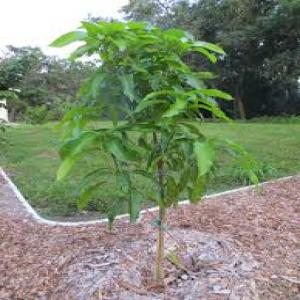Tree: (51, 12, 261, 296)
